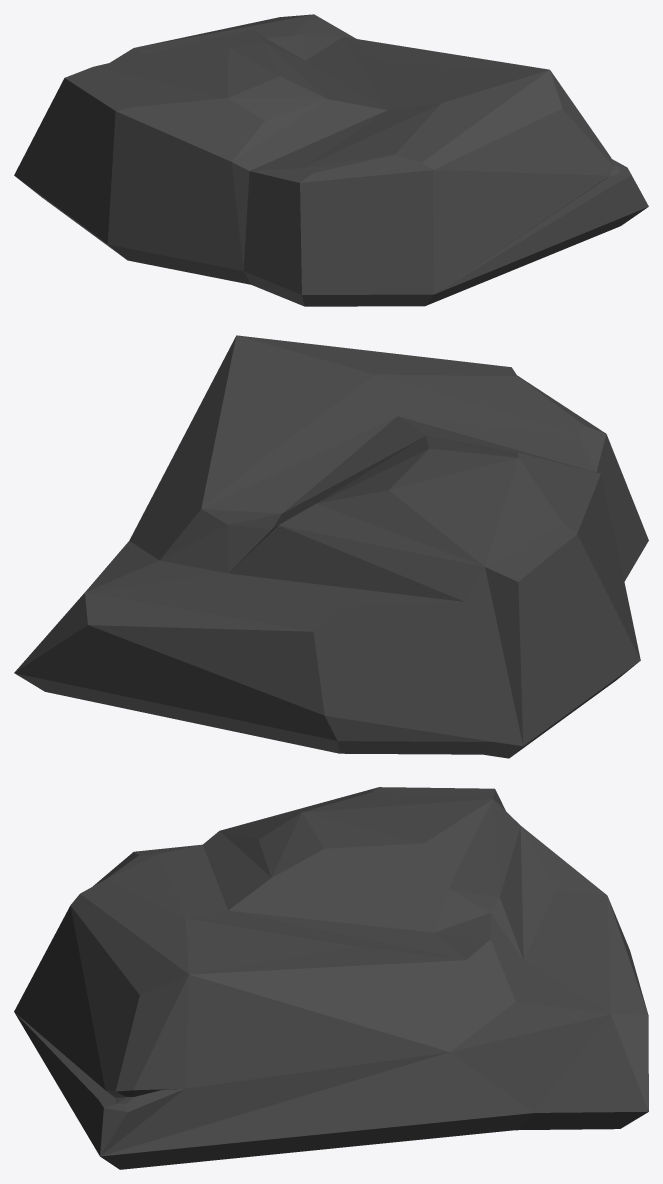
Rendered from rock__rock7_natural_dark.glb.
The picture shows the model from 3 angles, top to bottom: view 1: azimuth 30°, elevation 25°; view 2: azimuth 150°, elevation 25°; view 3: azimuth 270°, elevation 25°; orthographic projection. The views are drawn at different scales.
Visible parts, largest first — view 1: rock7.natural.dark; view 2: rock7.natural.dark; view 3: rock7.natural.dark.
Boxes of the visible parts, x1,y1,x2,y2 form: rock7.natural.dark: (14,14,648,306); rock7.natural.dark: (14,335,648,758); rock7.natural.dark: (14,787,648,1169).
Bounding box in the file's own units: 3.3 × 1.06 × 3.46.
1 material, 1 textured.
